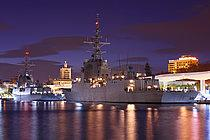MIL_Ship: (59, 12, 199, 105), (9, 49, 64, 103)
